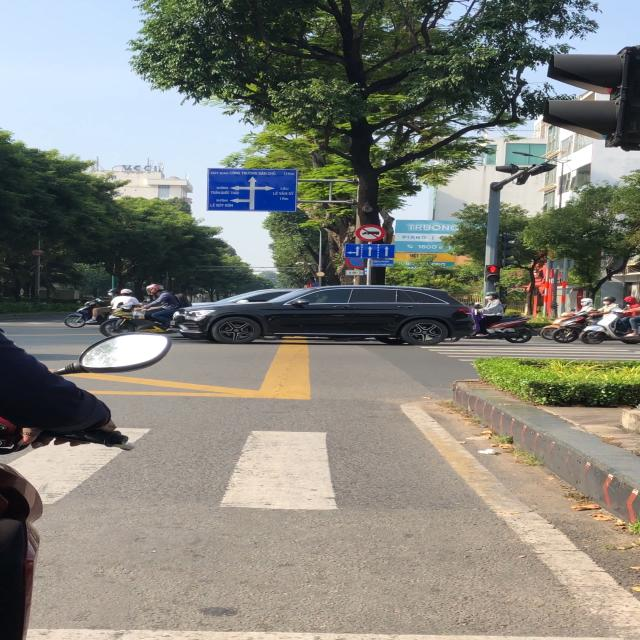Bien bao cam xe so-mi ro-mooc: (354, 223, 388, 243)
